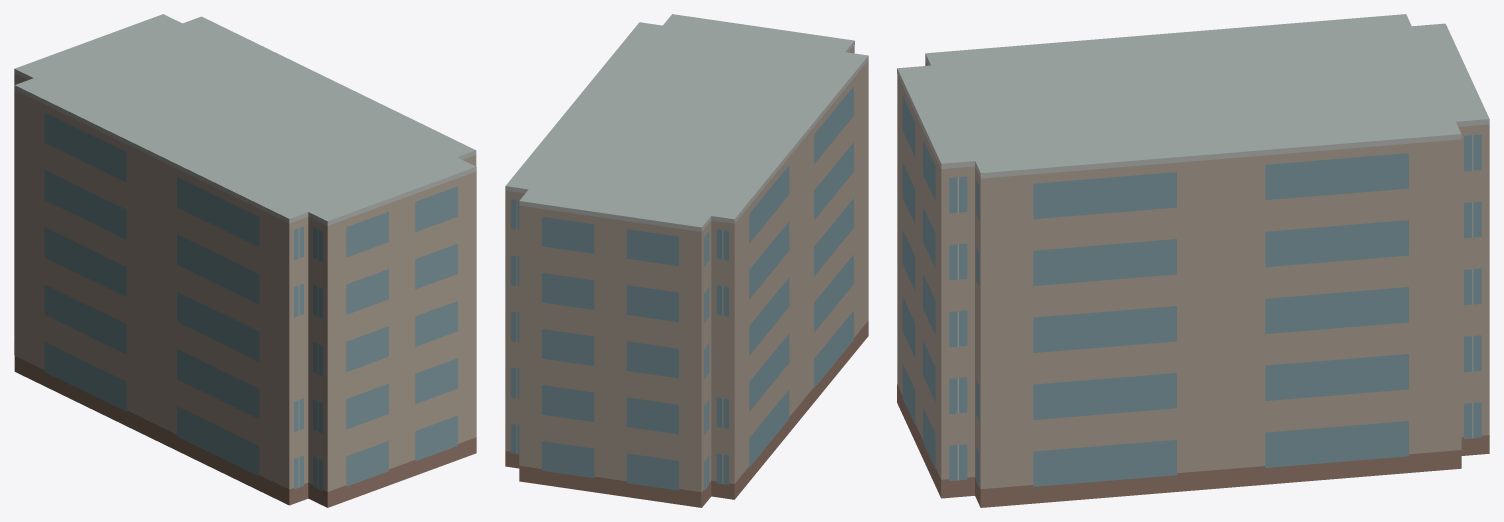
File: survey-upis-32606668.glb
3 views of the same model, side by side, from view 1: azimuth 30°, elevation 25°; view 2: azimuth 150°, elevation 25°; view 3: azimuth 270°, elevation 25° (orthographic). The views are drawn at different scales.
Parts seen in each view (by area): view 1: survey-upis-32606668.tmp; view 2: survey-upis-32606668.tmp; view 3: survey-upis-32606668.tmp.
Boxes of the visible parts, bbox=[...] form: survey-upis-32606668.tmp: bbox=[14, 14, 476, 507]; survey-upis-32606668.tmp: bbox=[505, 14, 868, 507]; survey-upis-32606668.tmp: bbox=[897, 14, 1489, 507].
Size of the model in its own units: 15.37 by 15.05 by 24.16.
